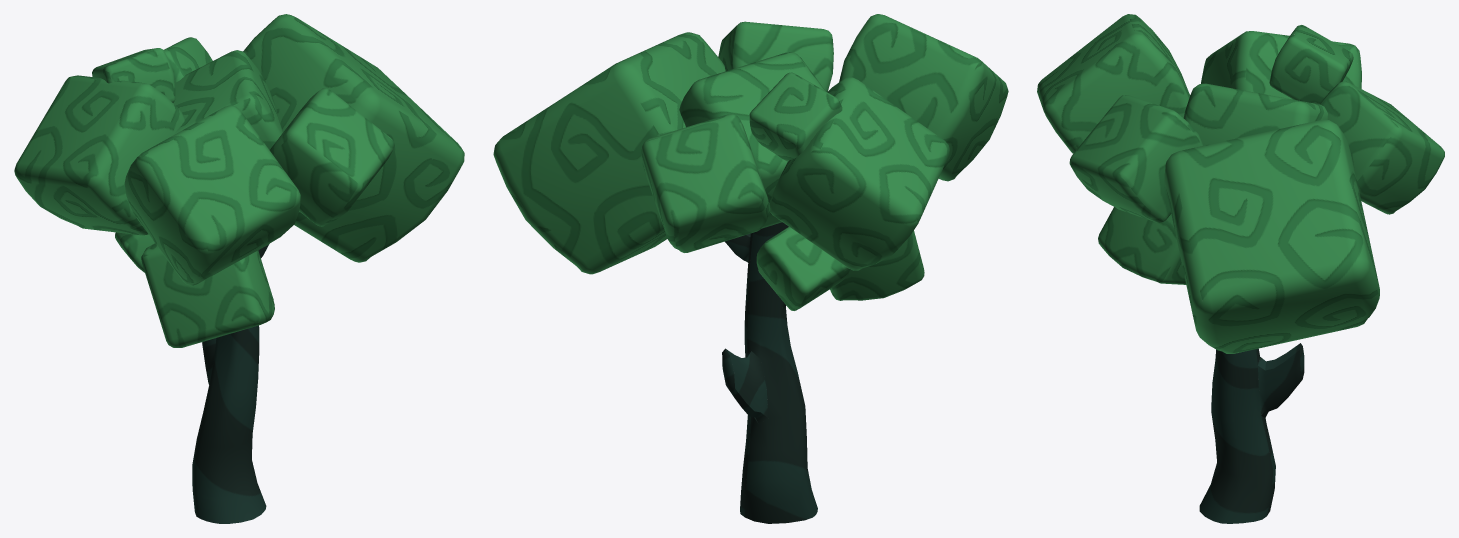
3 views of the same model, side by side, from view 1: azimuth 30°, elevation 25°; view 2: azimuth 150°, elevation 25°; view 3: azimuth 270°, elevation 25° (orthographic). The views are drawn at different scales.
Parts seen in each view (by area): view 1: Default; view 2: Default; view 3: Default.
Part boxes in pixels (x1,y1,x2,y2): Default: (14,14,464,523); Default: (493,14,1008,523); Default: (1037,14,1444,523).
Size of the model in its own units: 166 by 180 by 148.
1 material, 1 textured.
